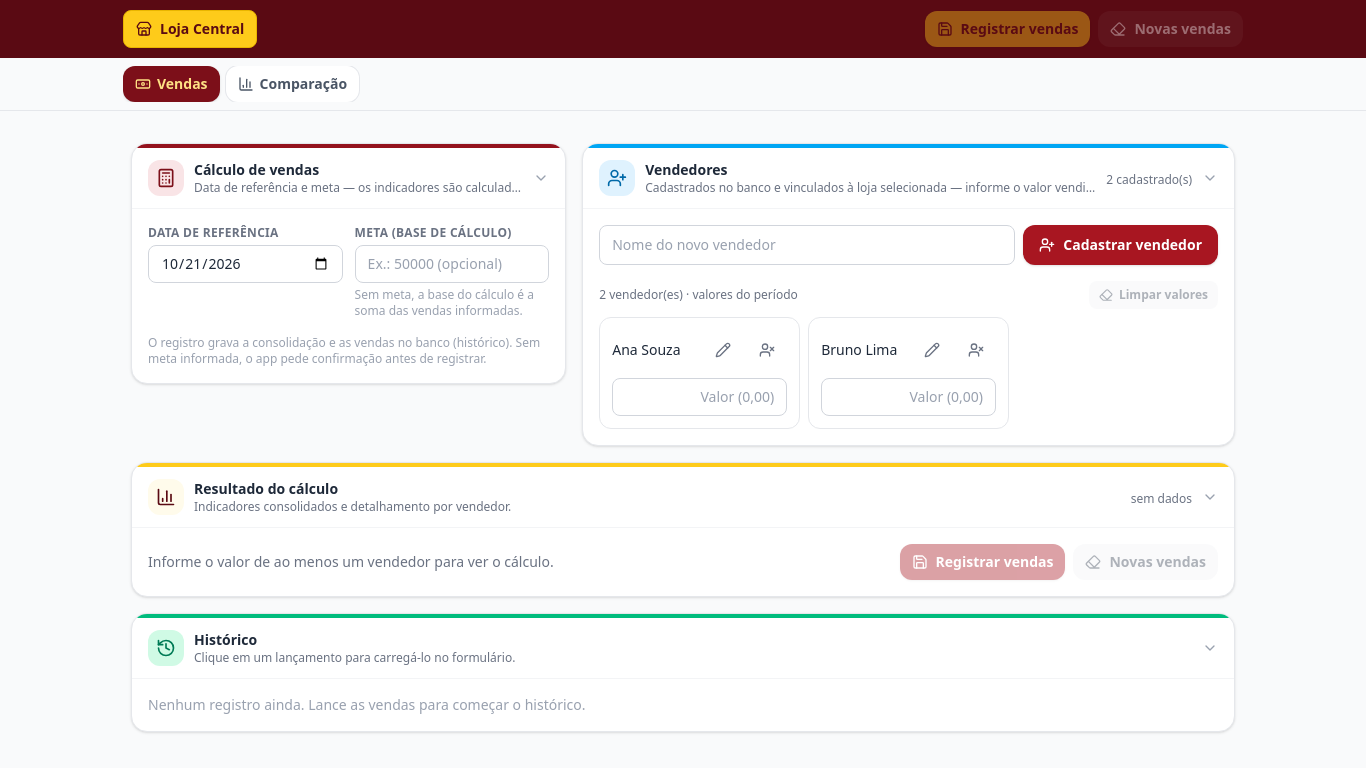
Test: ManagementScreen — digitação do valor do vendedor › possui as abas Vendas e Comparação, com a Comparação em construção
The width and height of the screenshot is (1366, 768).
Click the button "Comparação" at (292, 84), box [226,66,359,102]
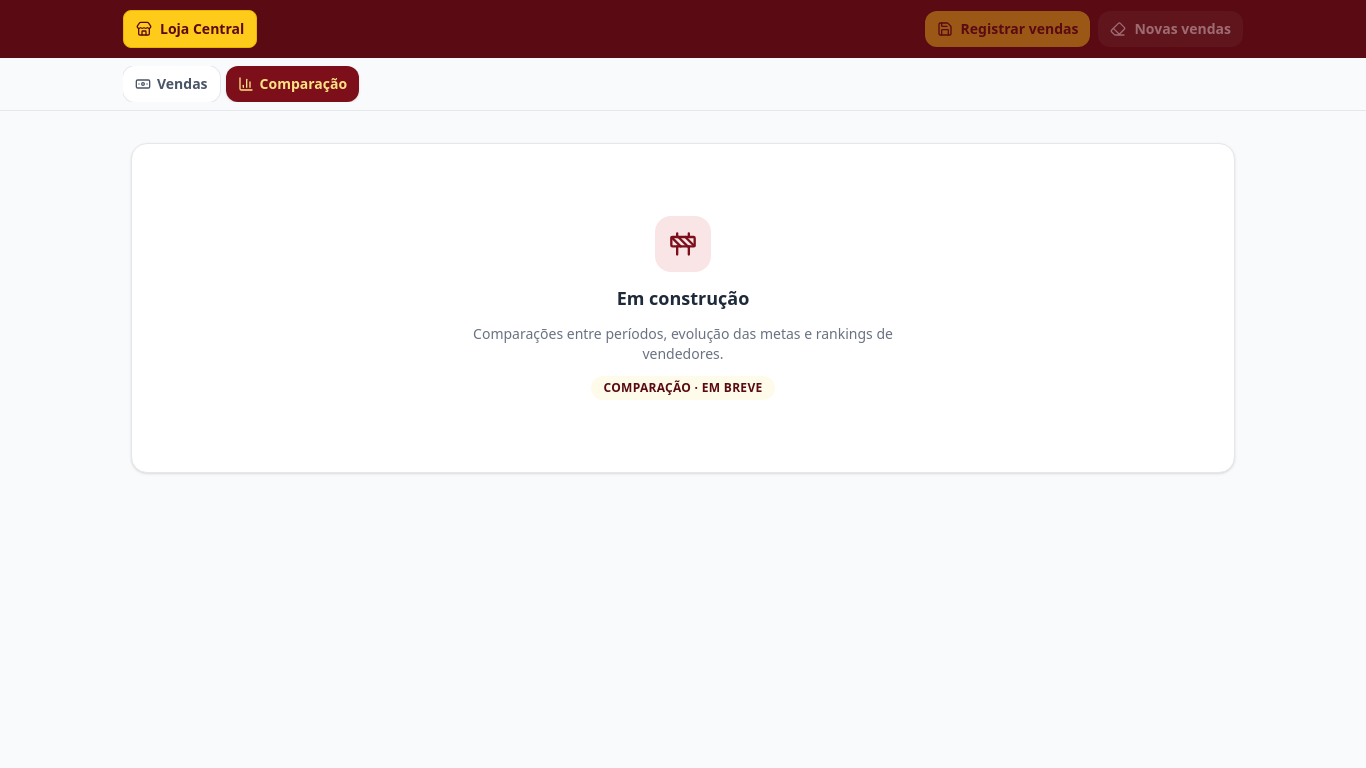
Result: the text "Em construção" is shown at [617,284,749,312]
Result: the text "Comparações entre períodos" is shown at [473,324,893,363]
